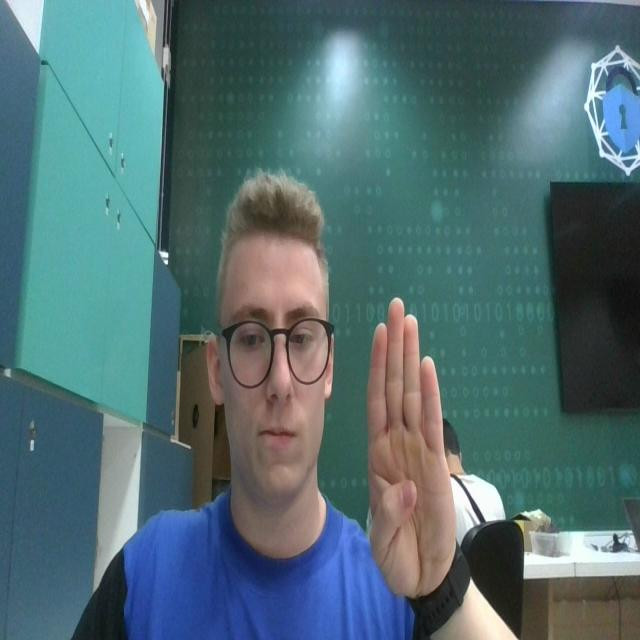B: (363, 297, 457, 588)
